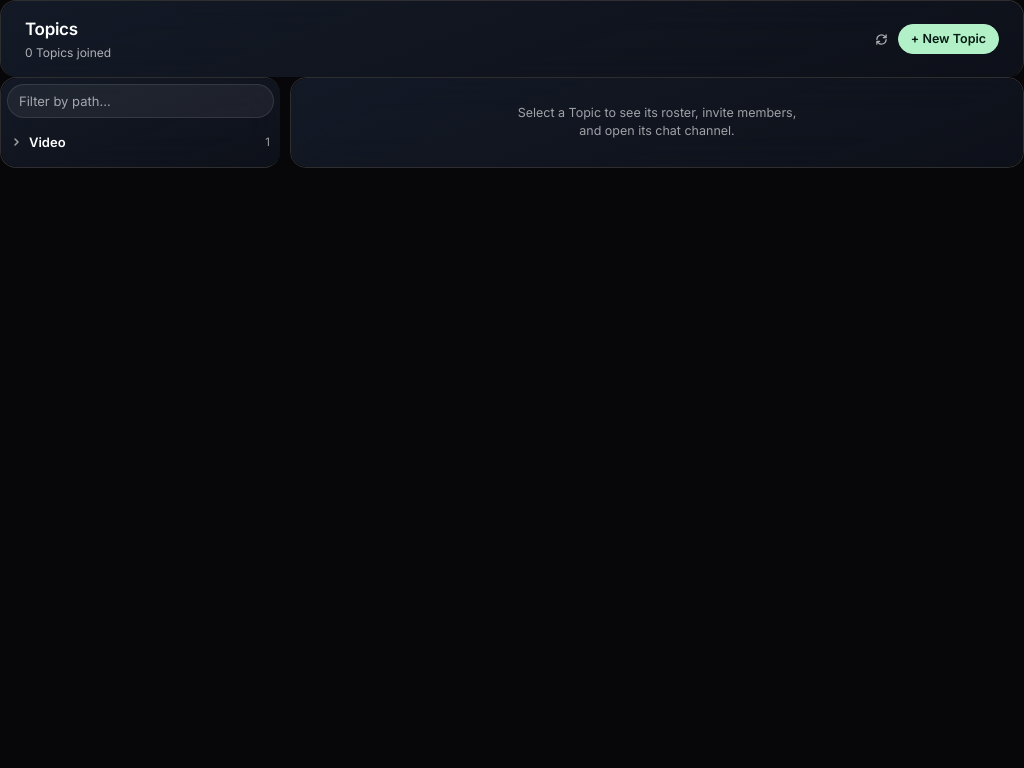
review 3 — after a successful join the detail pane shows the JOINED view › the row-level Join button does not bubble into the row click-to-select (no extra topicRank)
Click the button with class "root-header" at (47,142), box x1=7 y1=124 x2=274 y2=161
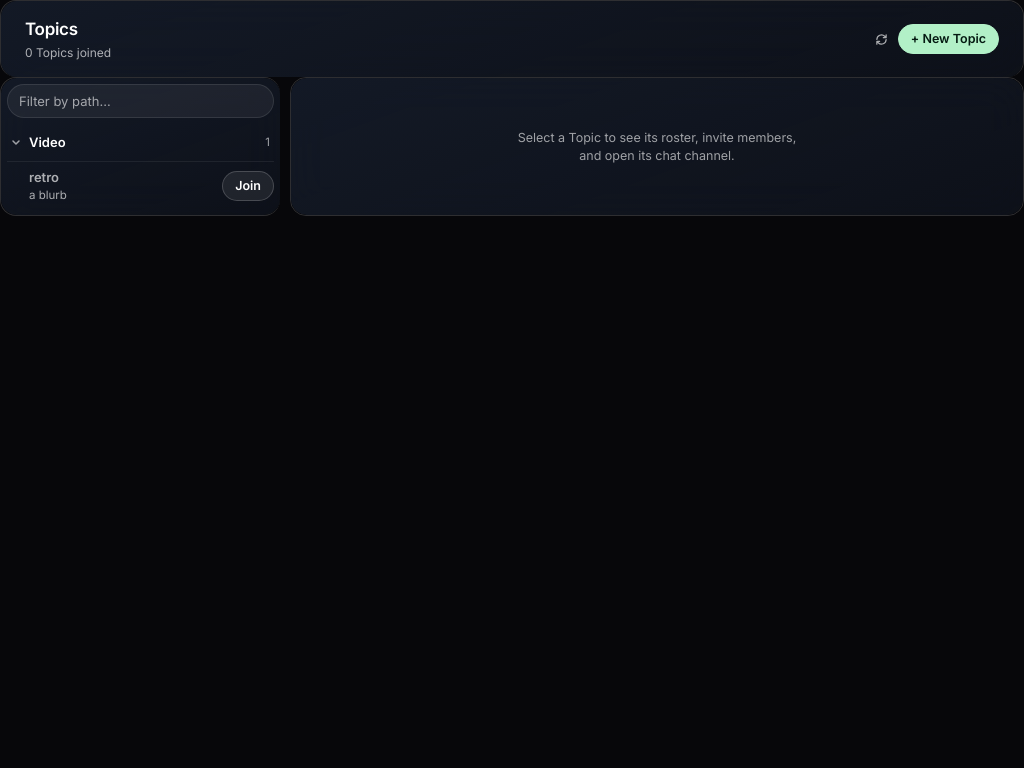
Check: the button "Join" is shown
Click the button "Join" at (248,186), box x1=222 y1=171 x2=274 y2=201
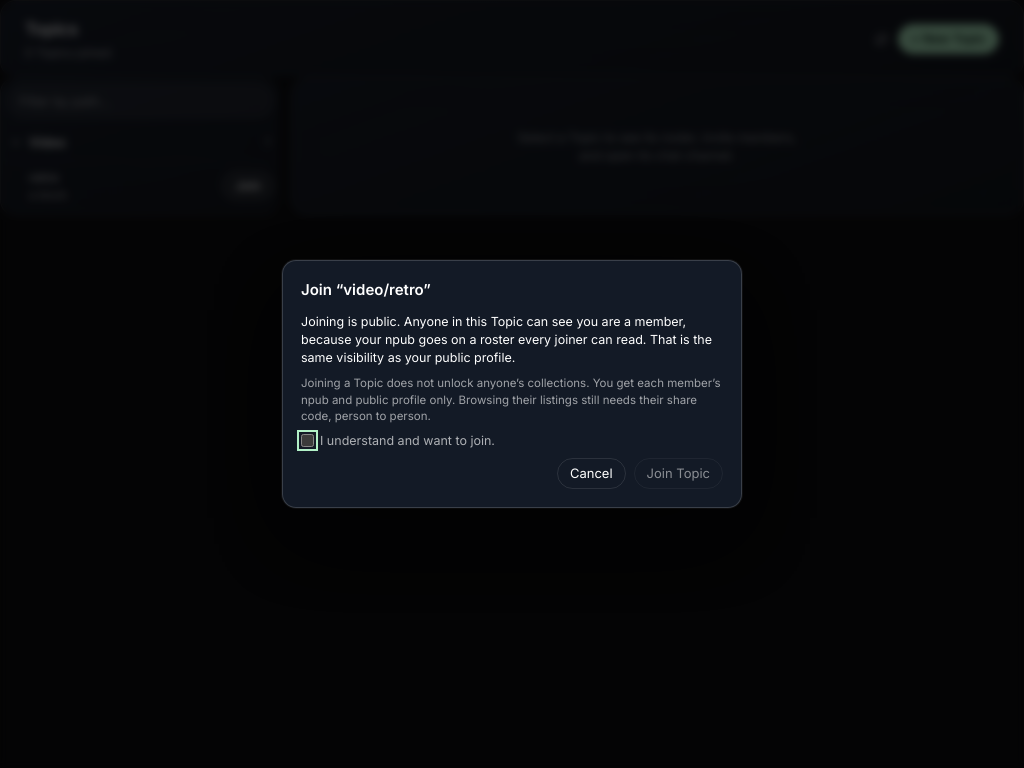
Check: the element with class "join-consent" is shown, box x1=301 y1=313 x2=723 y2=489
